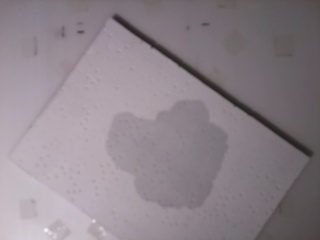Water_detected: (114, 107, 209, 196)
